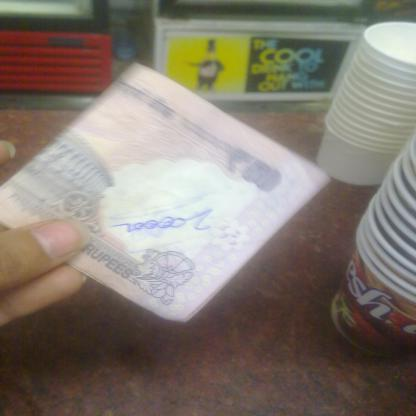Old50Back: (0, 61, 332, 324)
